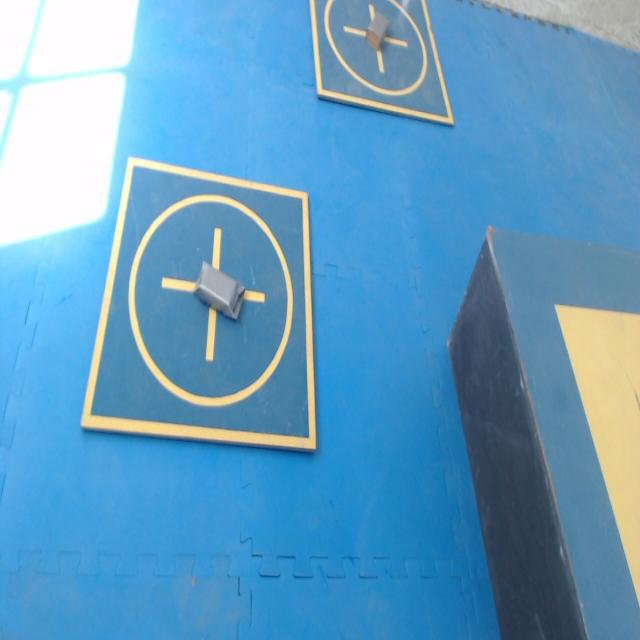direita: (366, 6, 388, 52)
esquerda: (194, 261, 244, 319)
